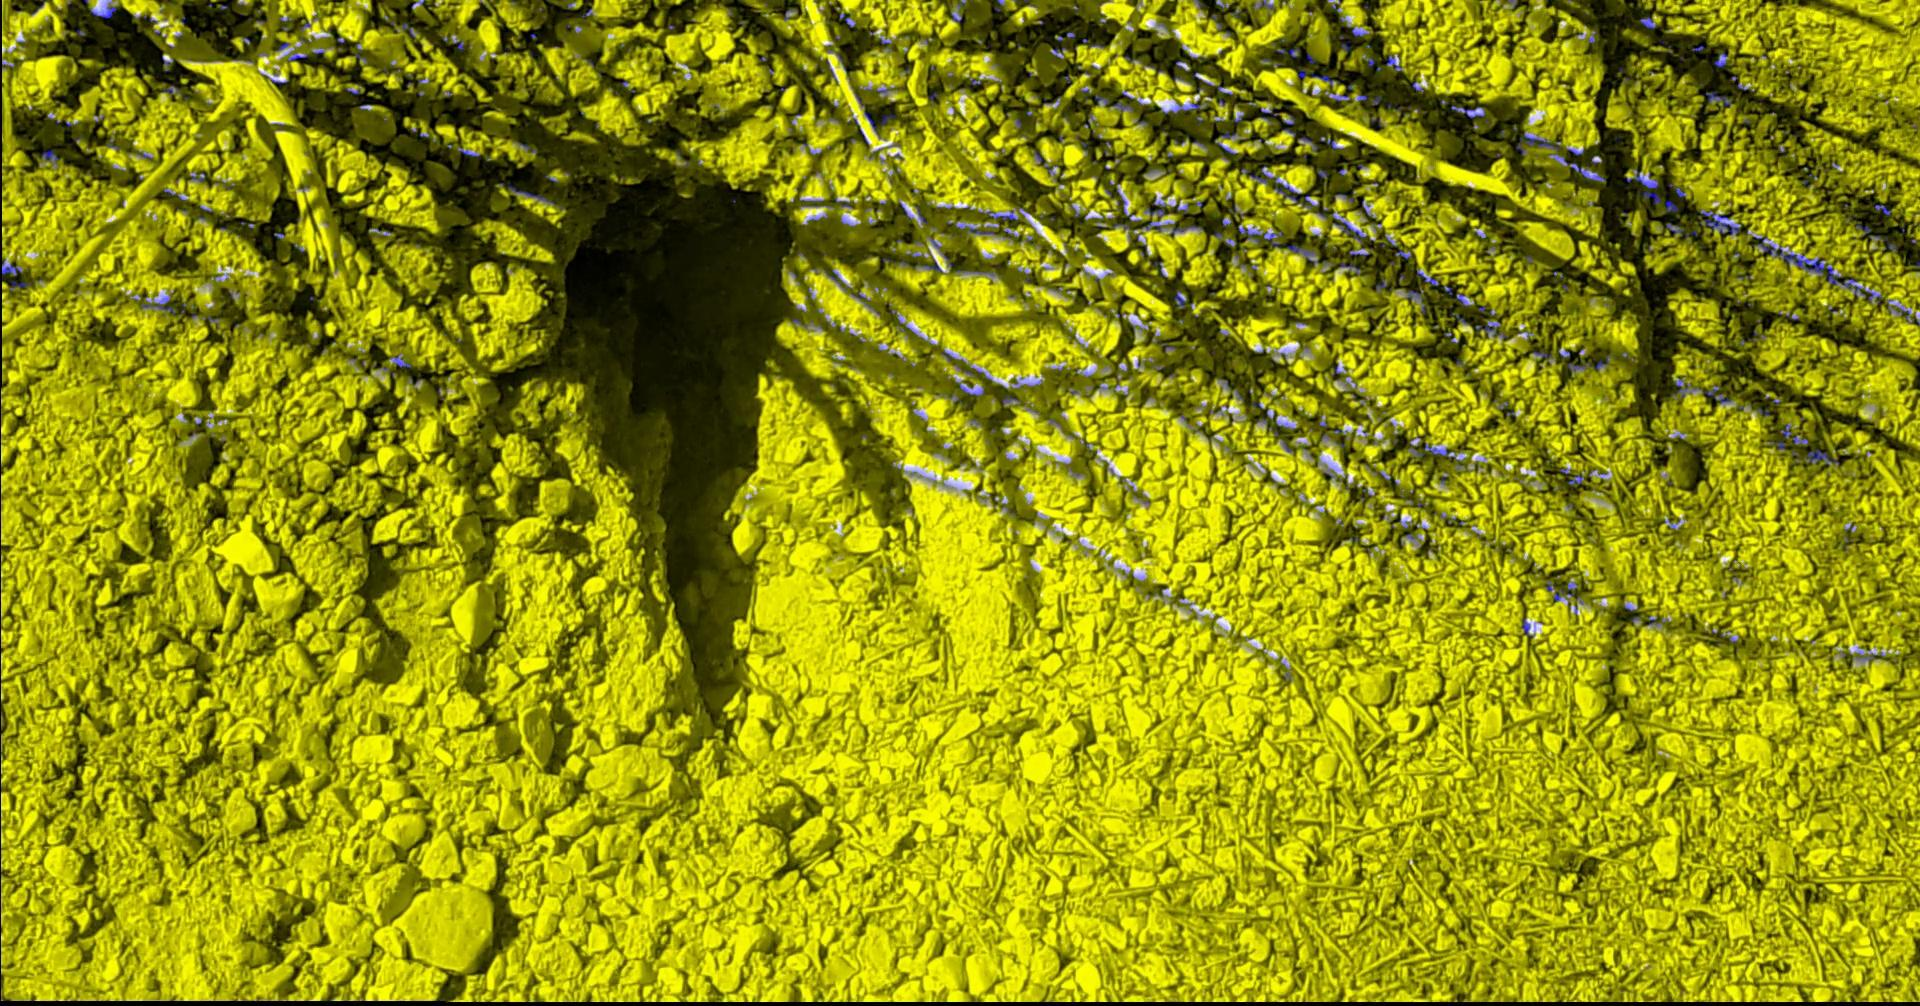ant: (1515, 132, 1604, 182), (1239, 165, 1319, 207), (1331, 211, 1368, 248), (1625, 168, 1660, 205), (500, 182, 554, 205), (1697, 210, 1741, 234), (1237, 224, 1283, 246), (1286, 244, 1330, 265), (1886, 298, 1919, 324), (979, 206, 1029, 220), (138, 298, 185, 312), (1297, 69, 1335, 85), (1095, 94, 1133, 111), (1474, 320, 1507, 339), (1255, 408, 1286, 427), (1768, 423, 1790, 448), (1803, 448, 1837, 465), (1855, 224, 1887, 241), (1158, 100, 1201, 113), (1703, 384, 1731, 403), (1032, 151, 1057, 173), (1552, 582, 1578, 601), (1663, 222, 1697, 238), (1423, 443, 1455, 459), (1450, 104, 1484, 118), (1406, 290, 1425, 314), (825, 269, 847, 290), (1704, 91, 1731, 107), (1167, 222, 1203, 234), (1144, 198, 1164, 217), (955, 225, 994, 234), (89, 5, 116, 18), (1671, 377, 1688, 398), (0, 262, 23, 276), (390, 354, 411, 368), (792, 197, 825, 206), (1594, 354, 1613, 370), (1385, 55, 1401, 71), (41, 149, 58, 163), (1275, 47, 1299, 57), (1326, 91, 1349, 102), (8, 279, 30, 290), (1173, 290, 1186, 307), (1567, 361, 1589, 371), (1713, 52, 1727, 67), (1638, 17, 1655, 28), (1790, 434, 1808, 445), (1338, 36, 1351, 50), (1567, 474, 1583, 484), (1663, 199, 1677, 211)
